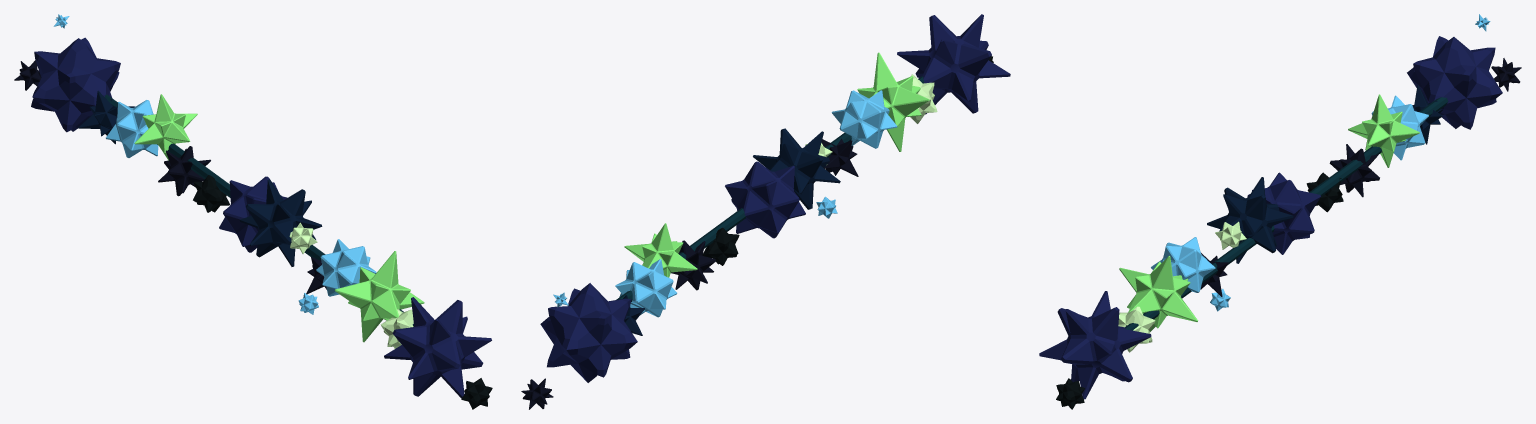
Rendered from st3_sphere rail.fbx.
The picture shows the model from 3 angles, left to right: view 1: azimuth 30°, elevation 25°; view 2: azimuth 150°, elevation 25°; view 3: azimuth 330°, elevation 25°; orthographic projection.
Parts seen in each view (by area): view 1: star_B_1; view 2: star_B_1; view 3: star_B_1.
Part boxes in pixels (x1,y1,x2,y2): star_B_1: [14, 14, 492, 409]; star_B_1: [521, 14, 1010, 409]; star_B_1: [1039, 14, 1521, 409].
Size of the model in its own units: 47.52 by 54.89 by 409.
